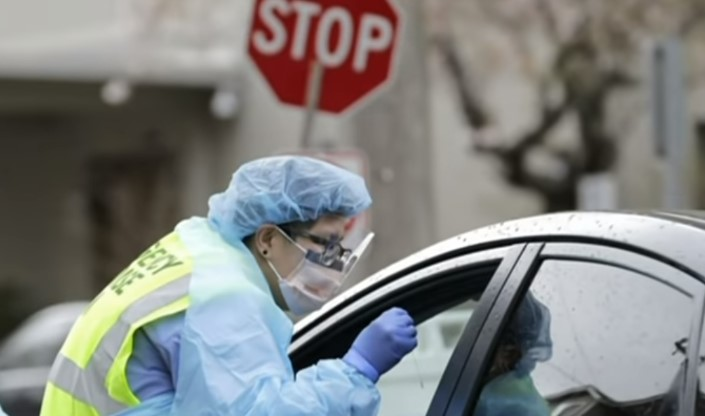face_with_mask: (214, 160, 364, 317)
